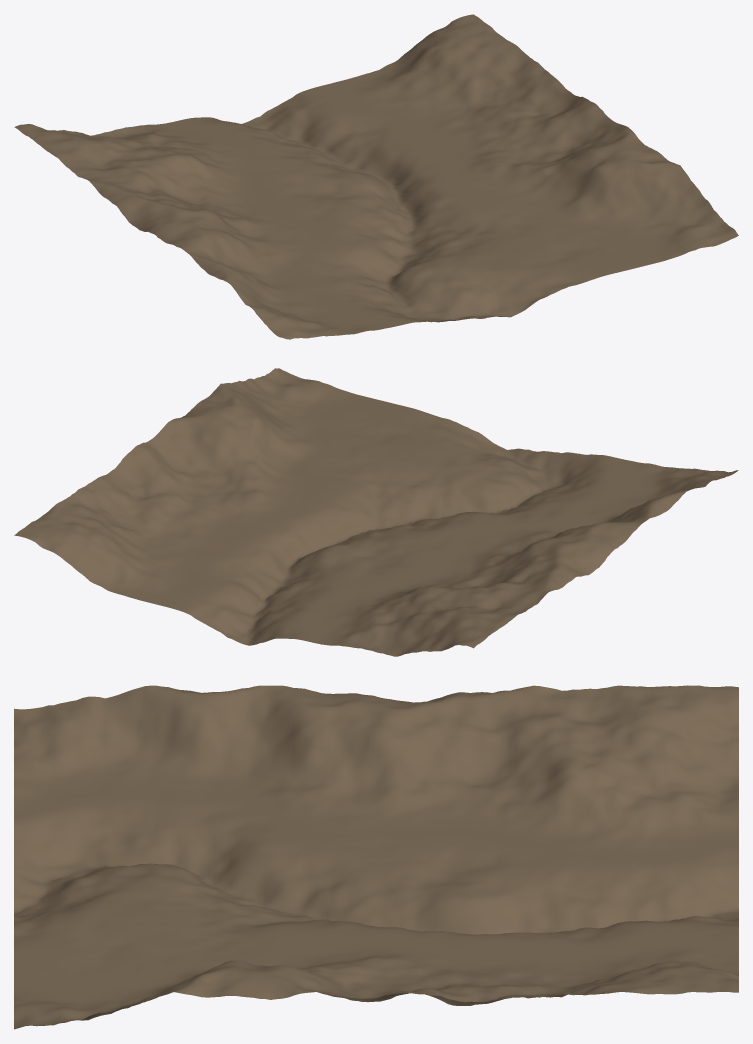
Rendered from ground.glb.
The picture shows the model from 3 angles, top to bottom: view 1: azimuth 30°, elevation 25°; view 2: azimuth 150°, elevation 25°; view 3: azimuth 270°, elevation 25°; orthographic projection. The views are drawn at different scales.
Parts seen in each view (by area): view 1: Ground; view 2: Ground; view 3: Ground.
Boxes of the visible parts, <box> form: Ground: <box>14,14,738,339</box>; Ground: <box>14,368,738,656</box>; Ground: <box>14,685,738,1029</box>.
Size of the model in its own units: 200 by 22.51 by 200.
